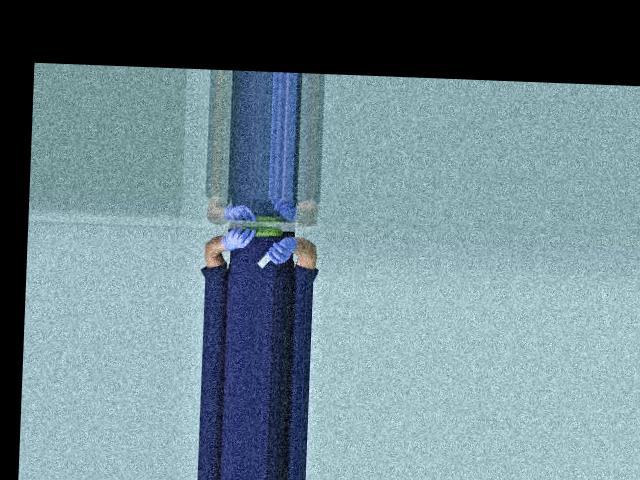cucumber: (243, 225, 283, 237)
